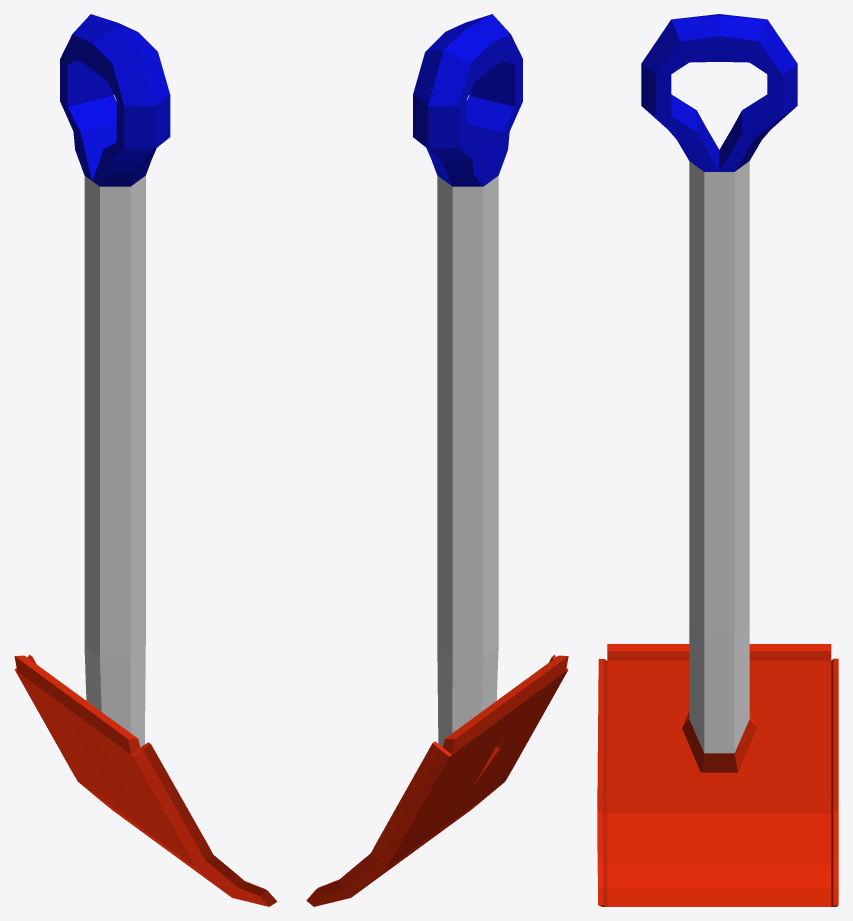
The model's file is Shovel.fbx.
The picture shows the model from 3 angles, left to right: view 1: azimuth 30°, elevation 25°; view 2: azimuth 150°, elevation 25°; view 3: azimuth 270°, elevation 25°; orthographic projection.
Parts seen in each view (by area): view 1: Shovel; view 2: Shovel; view 3: Shovel.
Boxes of the visible parts, x1,y1,x2,y2 form: Shovel: (14,14,277,906); Shovel: (306,14,568,906); Shovel: (597,14,838,906).
Bounding box in the file's own units: 546 × 3089 × 799.
